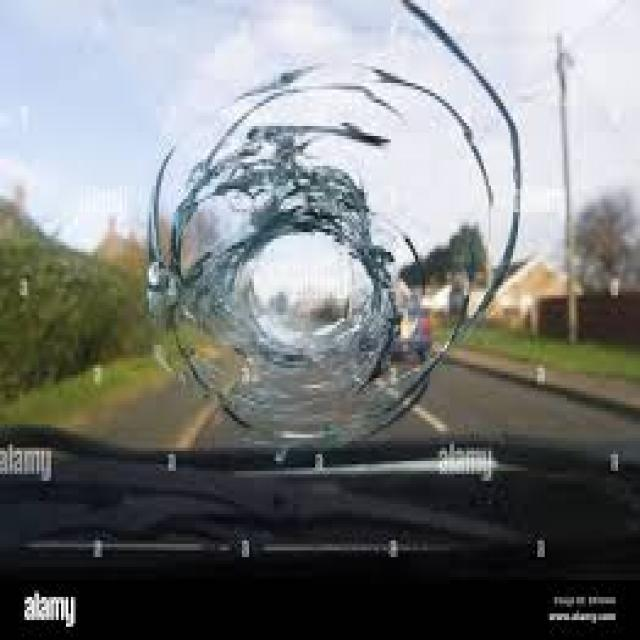damaged-windscreen: (0, 0, 640, 567)
